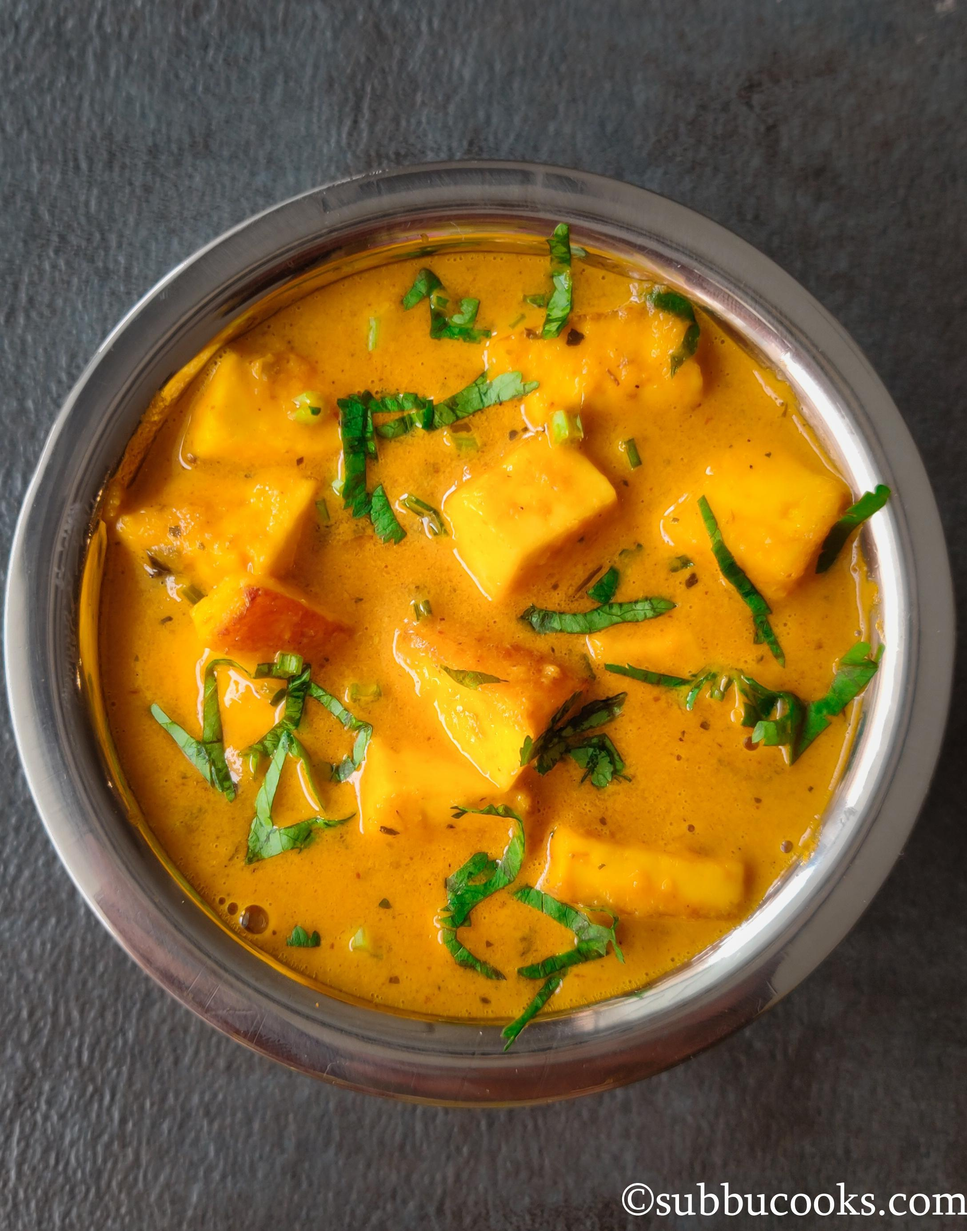paneer: (228, 330, 704, 828)
